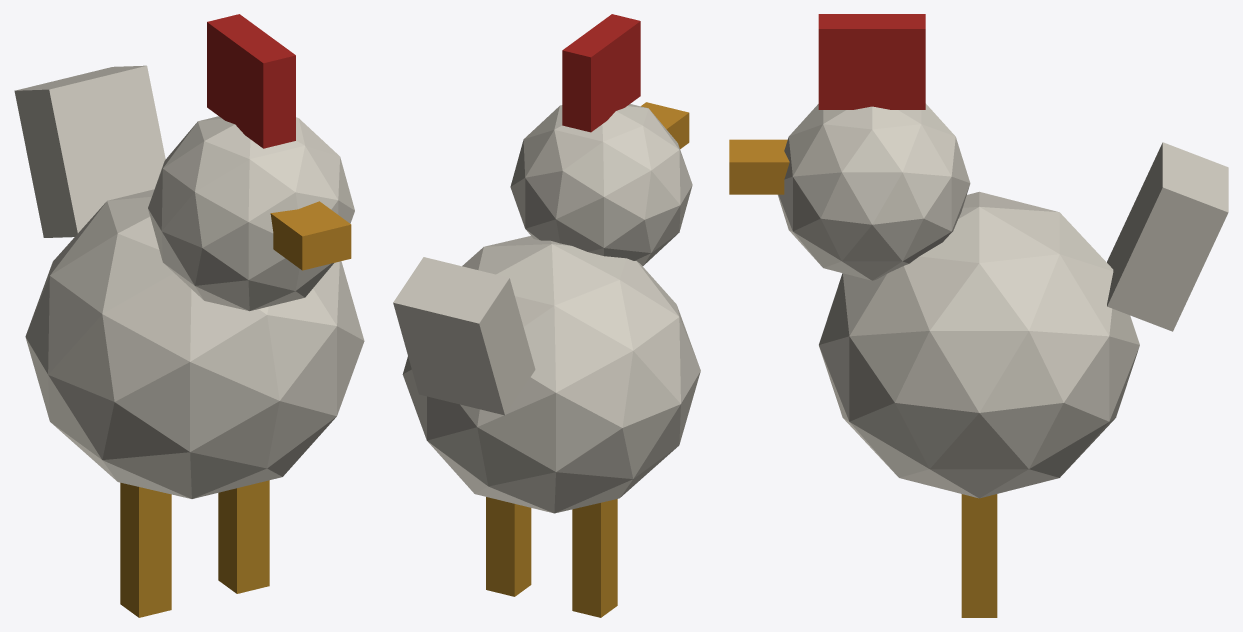
The model's file is chicken.glb.
3 views of the same model, side by side, from view 1: azimuth 30°, elevation 25°; view 2: azimuth 150°, elevation 25°; view 3: azimuth 270°, elevation 25° (orthographic). The views are drawn at different scales.
Visible parts, largest first — view 1: chicken; view 2: chicken; view 3: chicken.
Boxes of the visible parts, x1,y1,x2,y2 form: chicken: (14,14,364,617); chicken: (393,14,700,617); chicken: (729,14,1228,617).
Bounding box in the file's own units: 0.0187 × 0.0364 × 0.0291.
